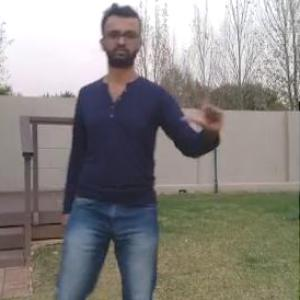land_hand: (179, 77, 233, 139)
